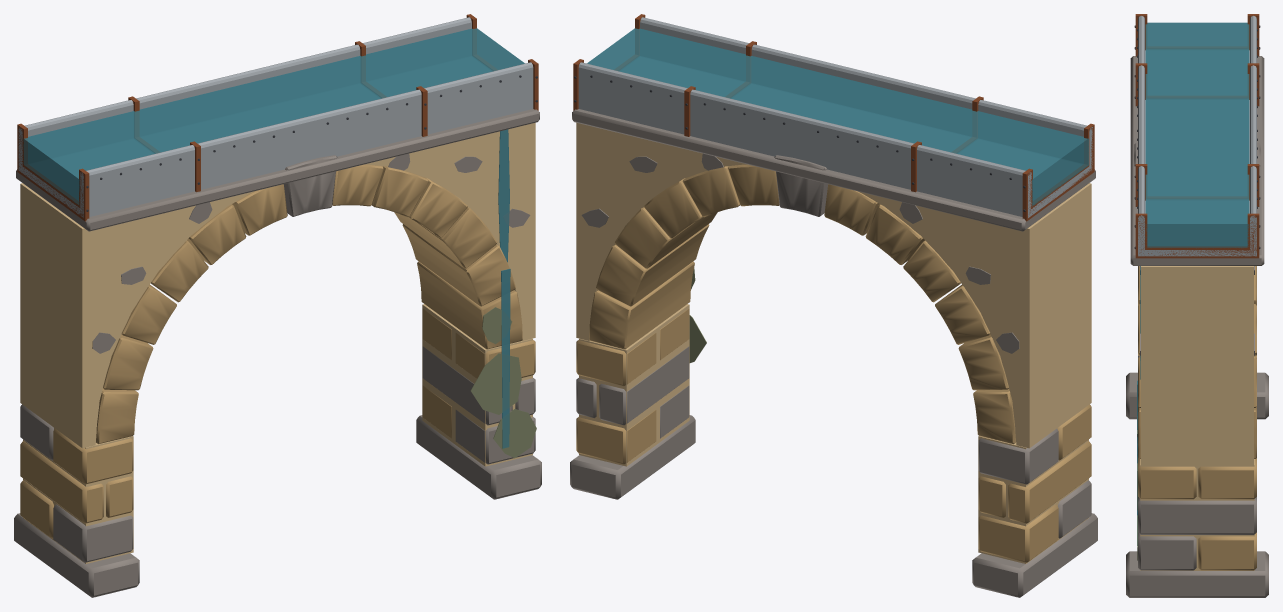
The model's file is deco_aqueduct_segment.fbx.
The picture shows the model from 3 angles, left to right: view 1: azimuth 30°, elevation 25°; view 2: azimuth 150°, elevation 25°; view 3: azimuth 270°, elevation 25°; orthographic projection. The views are drawn at different scales.
Parts seen in each view (by area): view 1: Aqueduct_Segment_Arch, Aqueduct_Segment_Piers, Aqueduct_Segment_Water, Aqueduct_Segment_Channel; view 2: Aqueduct_Segment_Arch, Aqueduct_Segment_Piers, Aqueduct_Segment_Channel, Aqueduct_Segment_Water; view 3: Aqueduct_Segment_Arch, Aqueduct_Segment_Water, Aqueduct_Segment_Piers, Aqueduct_Segment_Channel.
Boxes of the visible parts, x1,y1,x2,y2 form: Aqueduct_Segment_Arch: [16, 109, 539, 448]; Aqueduct_Segment_Piers: [14, 304, 541, 597]; Aqueduct_Segment_Water: [23, 28, 536, 458]; Aqueduct_Segment_Channel: [17, 14, 538, 221]; Aqueduct_Segment_Arch: [572, 109, 1095, 448]; Aqueduct_Segment_Piers: [570, 304, 1097, 597]; Aqueduct_Segment_Channel: [573, 14, 1094, 221]; Aqueduct_Segment_Water: [587, 28, 1088, 362]; Aqueduct_Segment_Arch: [1130, 56, 1264, 466]; Aqueduct_Segment_Water: [1137, 22, 1249, 560]; Aqueduct_Segment_Piers: [1126, 355, 1268, 597]; Aqueduct_Segment_Channel: [1134, 14, 1260, 258].
Bounding box in the file's own units: 400 × 356 × 120.
